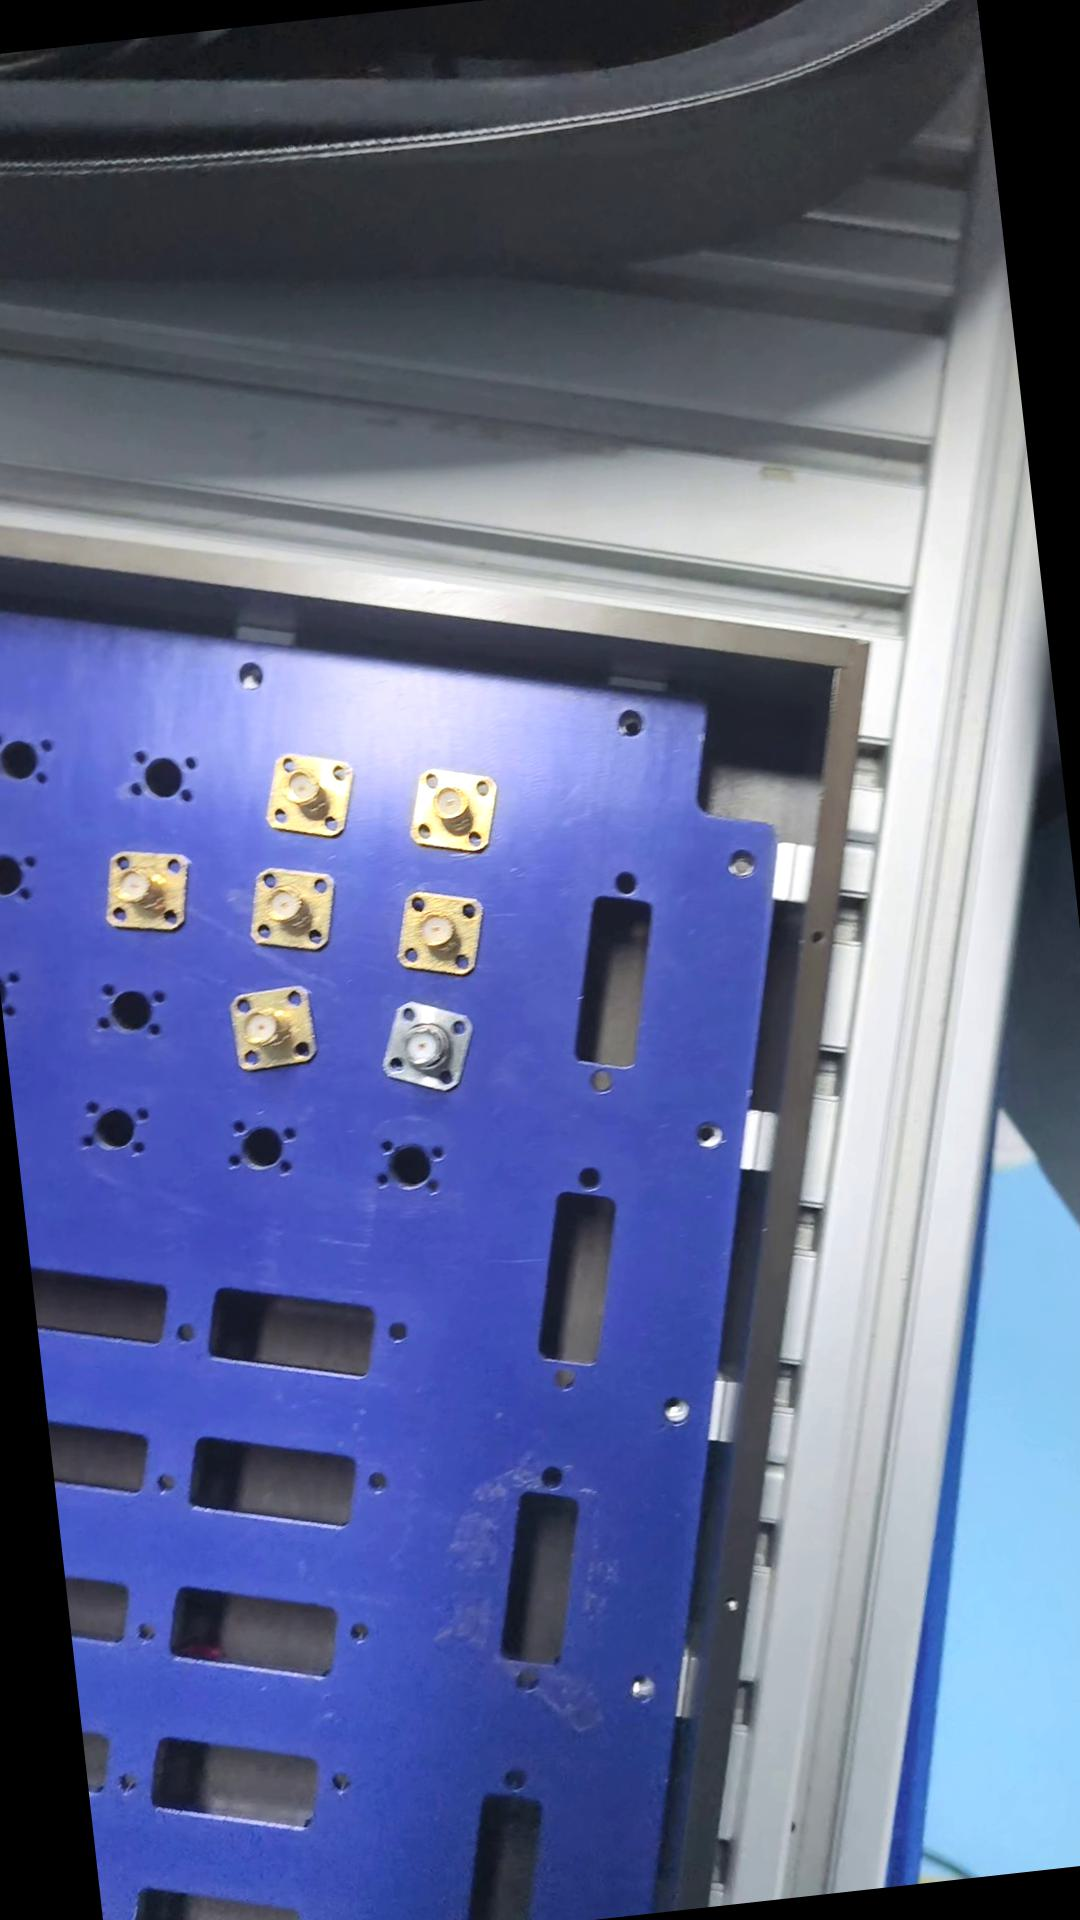SMA: (393, 761, 506, 862), (219, 975, 322, 1083), (375, 998, 477, 1098), (237, 858, 338, 960), (386, 887, 492, 982), (256, 746, 356, 845), (96, 844, 195, 938)
